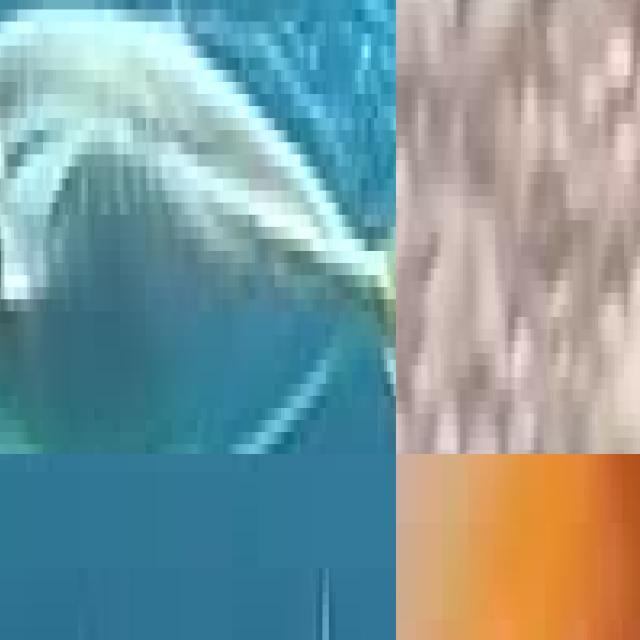fish: (0, 0, 396, 454), (396, 99, 640, 454)
